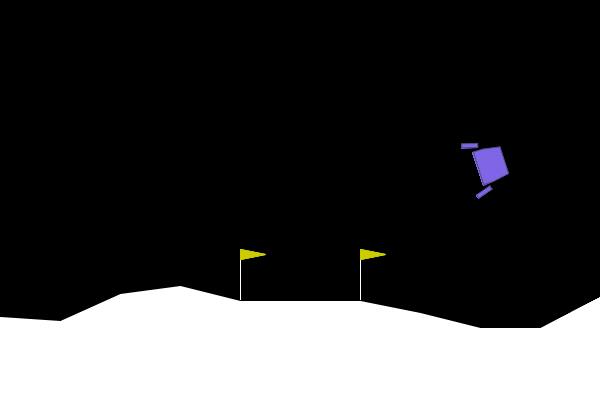lander: (459, 131, 515, 201)
